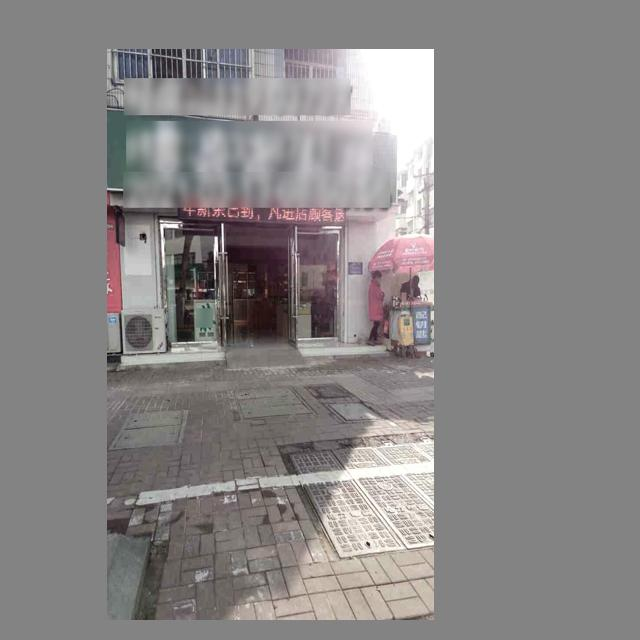good: (279, 436, 434, 558), (231, 384, 318, 419), (107, 409, 187, 447)
